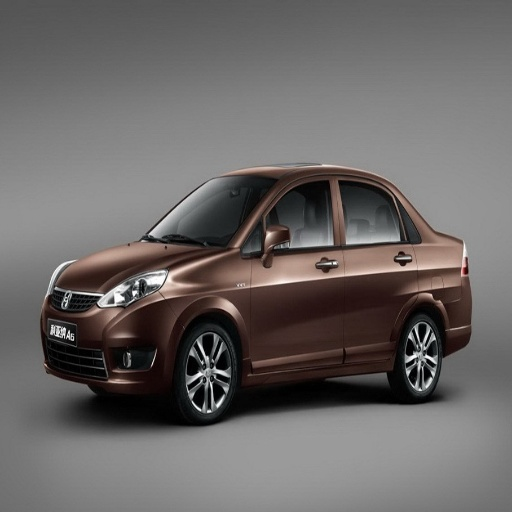back_left_door: (335, 174, 416, 361)
front_bumper: (40, 289, 179, 393)
front_glass: (144, 176, 275, 245)
front_left_door: (244, 175, 345, 367)
